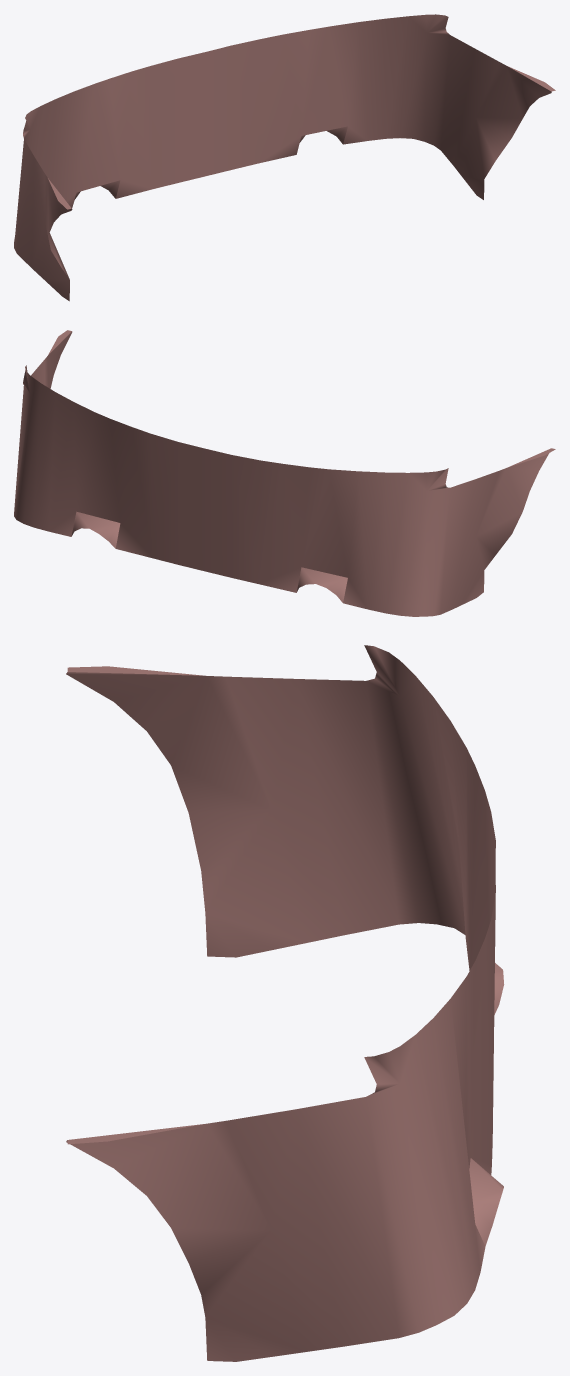
The model's file is G37_RB_03_Trim.fbx.
3 views of the same model, one above another, from view 1: azimuth 30°, elevation 25°; view 2: azimuth 150°, elevation 25°; view 3: azimuth 270°, elevation 25° (orthographic). The views are drawn at different scales.
Parts seen in each view (by area): view 1: G37_RB_03_Trim; view 2: G37_RB_03_Trim; view 3: G37_RB_03_Trim.
Part boxes in pixels (x1,y1,x2,y2): G37_RB_03_Trim: (14,14,555,301); G37_RB_03_Trim: (14,330,555,616); G37_RB_03_Trim: (66,645,504,1361).
Bounding box in the file's own units: 181 × 54.73 × 70.44.
